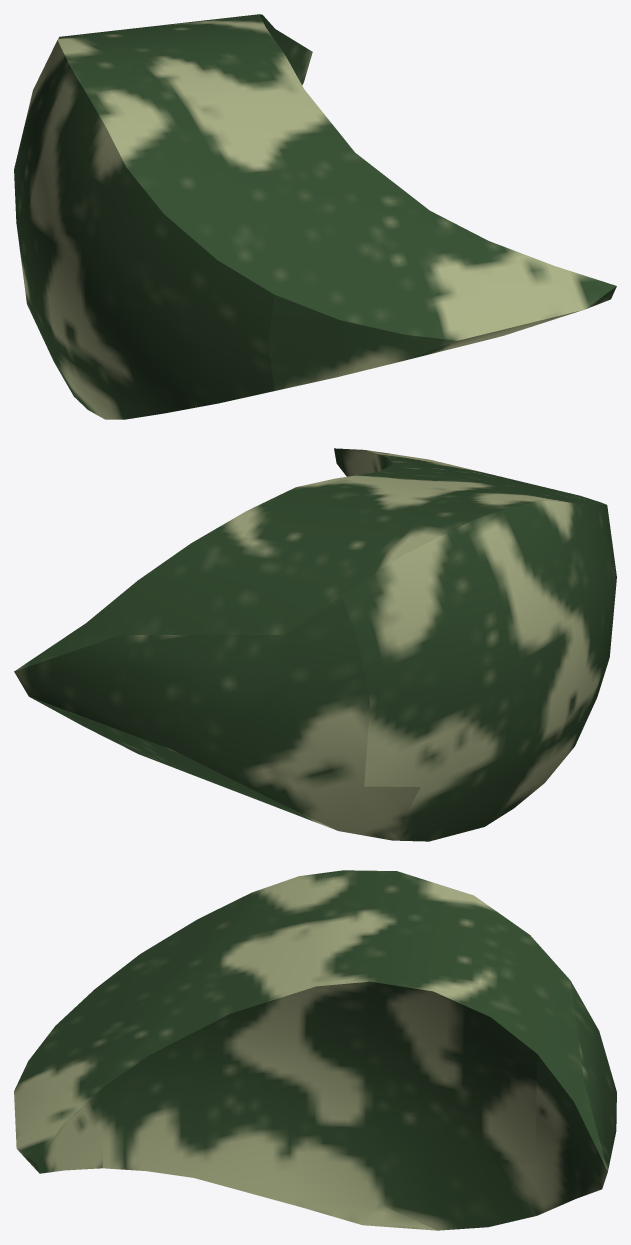
File: link_body_26_composite.obj
3 renders of one model, top to bottom at view 1: azimuth 30°, elevation 25°; view 2: azimuth 150°, elevation 25°; view 3: azimuth 270°, elevation 25°, orthographic. The views are drawn at different scales.
Visible parts, largest first — view 1: link_body_26; view 2: link_body_26; view 3: link_body_26.
Part boxes in pixels (x1,y1,x2,y2): link_body_26: (14, 14, 616, 419); link_body_26: (14, 448, 616, 841); link_body_26: (14, 870, 616, 1230).
Bounding box in the file's own units: 7.46 × 5.53 × 10.41.
1 material, 1 textured.
